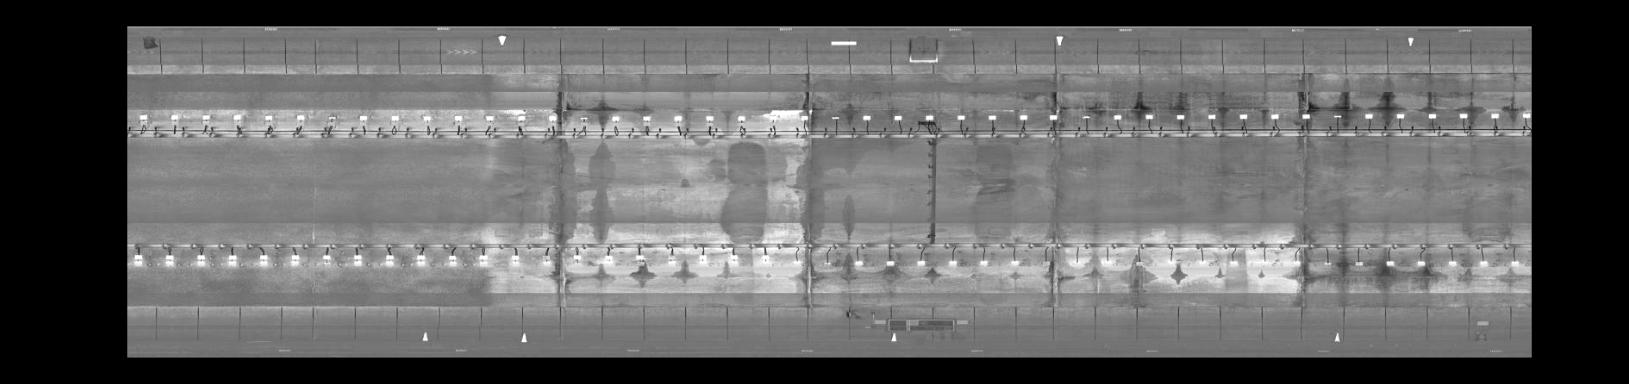light: (381, 251, 400, 270), (348, 253, 368, 269), (313, 252, 333, 267), (564, 253, 588, 266), (285, 253, 304, 267), (413, 252, 430, 268), (636, 111, 653, 126), (443, 254, 460, 269), (1505, 257, 1524, 271), (1036, 257, 1054, 271), (386, 110, 405, 124), (1348, 258, 1368, 271), (763, 111, 782, 124), (506, 254, 526, 267), (323, 111, 343, 124), (253, 253, 273, 266), (1443, 256, 1460, 271), (661, 253, 678, 267), (474, 254, 491, 268), (160, 254, 179, 267), (196, 112, 216, 124), (1172, 110, 1189, 124), (630, 253, 646, 267), (537, 255, 554, 269), (1329, 110, 1346, 122), (1223, 256, 1240, 269), (755, 254, 773, 267), (545, 111, 563, 124), (449, 111, 466, 124), (135, 111, 153, 124), (129, 254, 146, 267), (1098, 257, 1117, 269), (599, 254, 618, 266), (479, 113, 498, 125), (1266, 110, 1282, 124), (944, 258, 961, 271), (606, 111, 622, 124), (224, 254, 241, 267), (1379, 260, 1398, 271), (1411, 257, 1428, 269), (1392, 110, 1407, 124), (695, 252, 709, 267), (514, 112, 528, 127), (1046, 111, 1062, 124), (1129, 258, 1148, 269), (849, 258, 867, 269), (888, 111, 904, 124), (417, 113, 435, 124), (229, 113, 247, 124), (976, 257, 992, 269), (190, 253, 210, 263), (1067, 258, 1085, 269), (1456, 110, 1469, 124), (1235, 110, 1249, 124), (1298, 110, 1312, 122), (1319, 256, 1334, 269), (355, 111, 370, 124), (293, 111, 308, 124), (1487, 110, 1502, 121), (1006, 257, 1021, 269), (733, 112, 749, 124), (1141, 112, 1157, 122), (1107, 112, 1124, 122), (953, 111, 969, 121), (700, 113, 717, 124), (260, 113, 276, 124), (166, 111, 180, 124), (1361, 110, 1376, 121), (669, 114, 684, 126), (1164, 255, 1179, 266), (1017, 111, 1030, 124), (912, 259, 929, 269), (1477, 257, 1491, 269), (1204, 112, 1218, 124), (727, 253, 741, 265), (985, 112, 999, 122), (577, 113, 591, 124), (1194, 257, 1211, 266), (795, 114, 810, 124), (1426, 110, 1439, 121), (1517, 110, 1530, 120), (883, 259, 897, 270), (1258, 257, 1273, 267), (860, 114, 875, 124), (1288, 258, 1303, 267), (923, 113, 937, 121), (829, 114, 842, 124), (819, 260, 834, 268), (787, 259, 803, 267), (1079, 113, 1092, 121)
